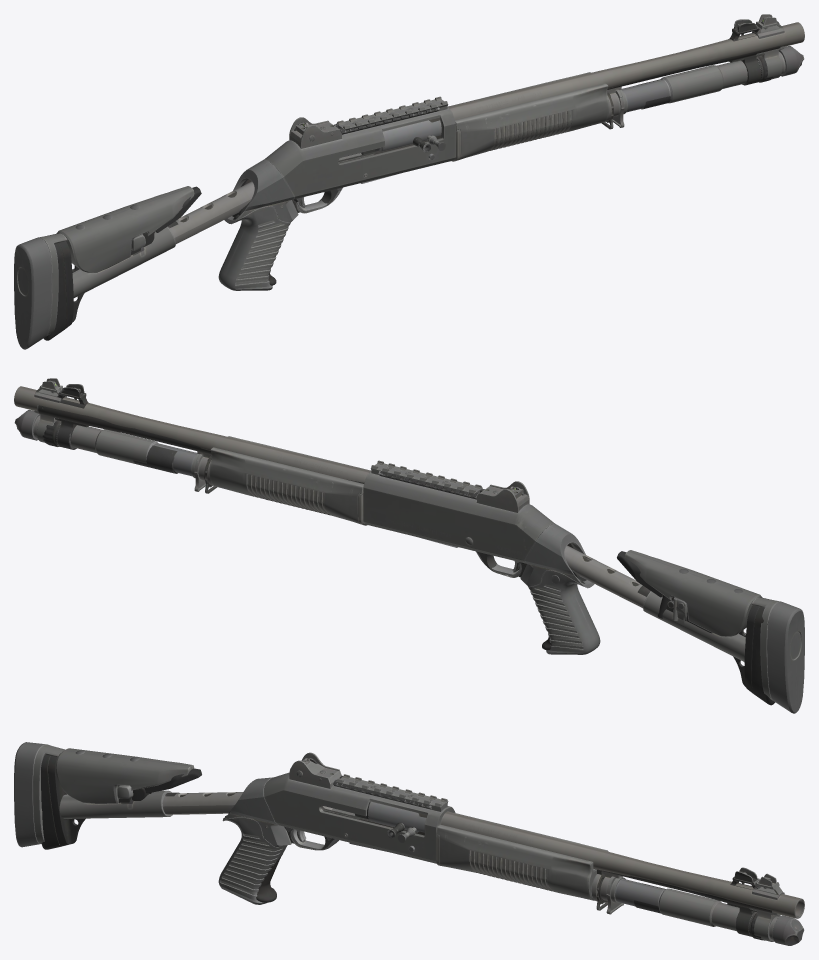
3 views of the same model, one above another, from view 1: azimuth 30°, elevation 25°; view 2: azimuth 150°, elevation 25°; view 3: azimuth 330°, elevation 25° (orthographic).
Visible parts, largest first — view 1: weapon_shot_xm1014.vmdl_c.body_legacy, weapon_shot_xm1014.vmdl_c.body_hd; view 2: weapon_shot_xm1014.vmdl_c.body_legacy, weapon_shot_xm1014.vmdl_c.body_hd; view 3: weapon_shot_xm1014.vmdl_c.body_legacy, weapon_shot_xm1014.vmdl_c.body_hd.
Boxes of the visible parts, x1,y1,x2,y2 form: weapon_shot_xm1014.vmdl_c.body_legacy: (14,14,804,349); weapon_shot_xm1014.vmdl_c.body_hd: (43,19,780,340); weapon_shot_xm1014.vmdl_c.body_legacy: (14,378,804,713); weapon_shot_xm1014.vmdl_c.body_hd: (37,384,775,705); weapon_shot_xm1014.vmdl_c.body_legacy: (14,742,804,945); weapon_shot_xm1014.vmdl_c.body_hd: (41,754,772,940).
Size of the model in its own units: 37.18 by 7.23 by 2.72.
Materials: 2 (2 with a texture image).
